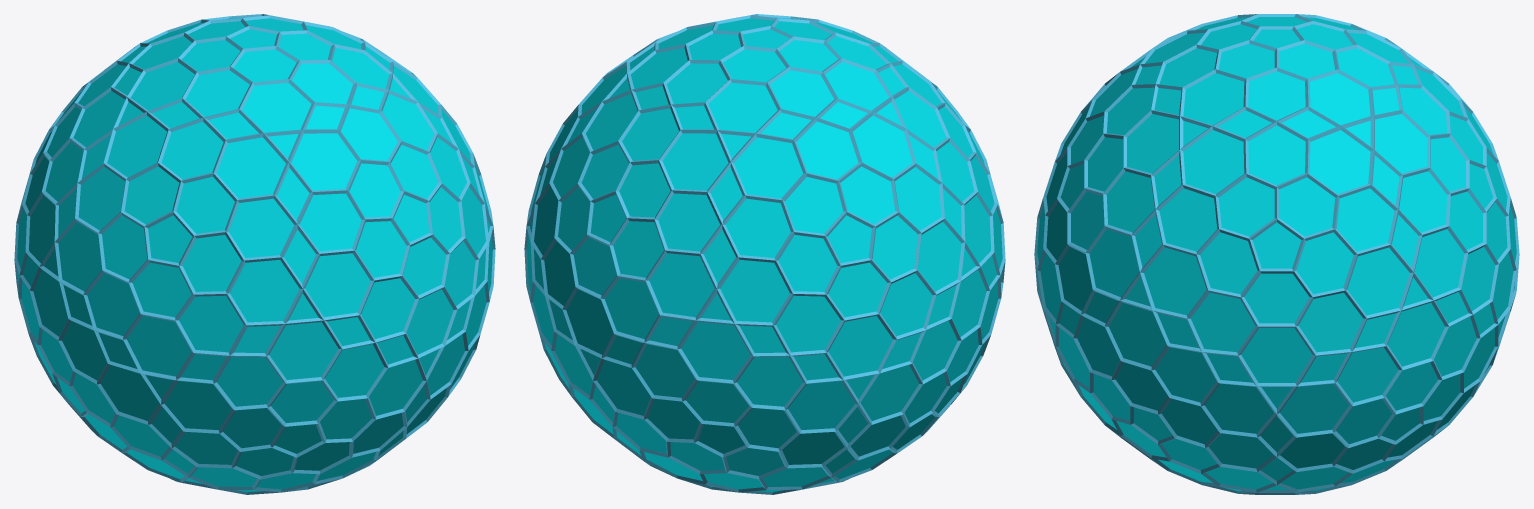
The model's file is shield.fbx.
3 renders of one model, left to right at view 1: azimuth 30°, elevation 25°; view 2: azimuth 150°, elevation 25°; view 3: azimuth 270°, elevation 25°, orthographic.
Parts seen in each view (by area): view 1: Icosphere; view 2: Icosphere; view 3: Icosphere.
Boxes of the visible parts, bbox=[...] form: Icosphere: bbox=[14, 14, 495, 494]; Icosphere: bbox=[524, 14, 1005, 494]; Icosphere: bbox=[1034, 14, 1519, 494].
Bounding box in the file's own units: 200 × 201 × 202.
